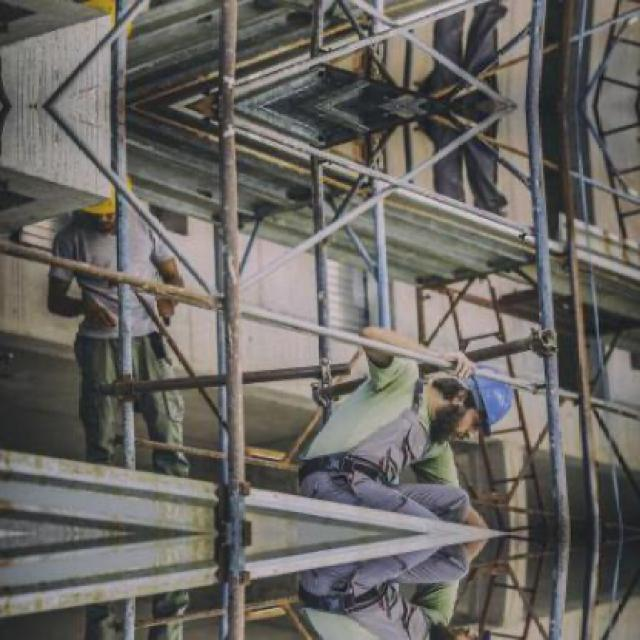helmet: (424, 367, 516, 449), (74, 166, 135, 232), (72, 0, 136, 48), (425, 620, 517, 638)
